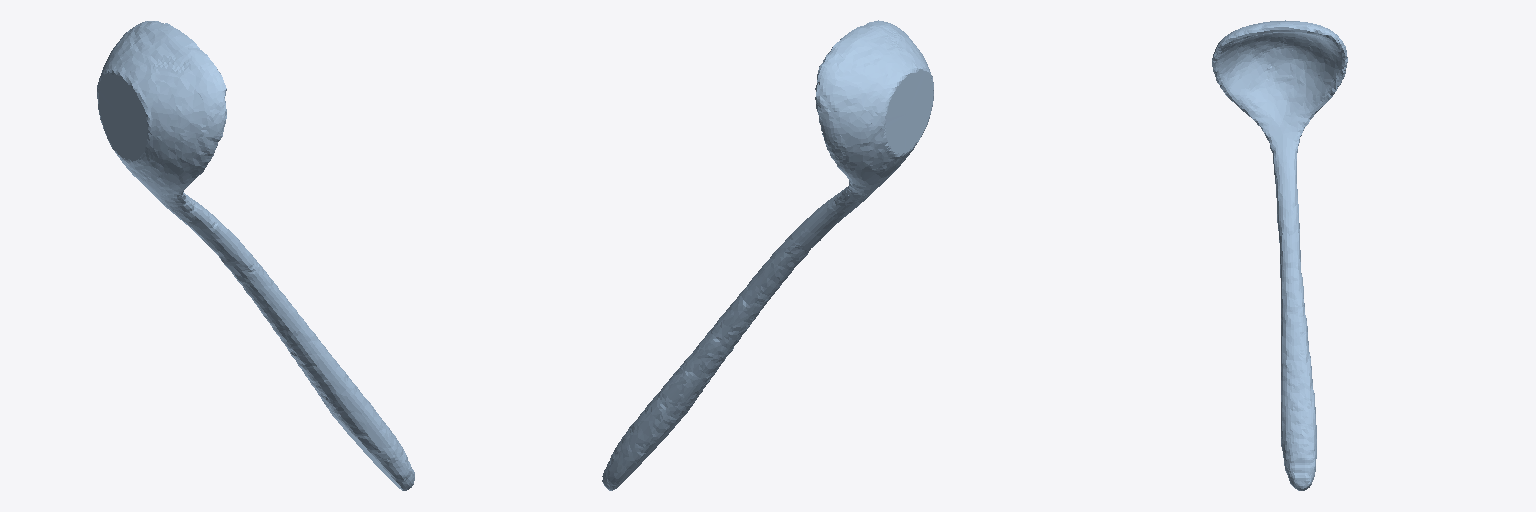
The robot description file, URDF, robot "Spoon.urdf":
<?xml version="1.0" ?>
<robot name="Spoon.urdf">
  <dynamics damping="0.5" friction="0.9"/>
  <link name="baseLink">
    <contact>
      <lateral_friction value="0.9"/>
      <rolling_friction value="0.5"/>
      <stiffness value="30000"/>
      <damping value="1000"/>
    </contact>
    <visual>
      <origin rpy="0 0 0" xyz="0 0 0"/>
      <geometry>
        <mesh filename="objects/Spoon/Spoon.obj" scale="1.0 1.0 1.0"/>
      </geometry>
      <material name="mat">
        <color rgba="0.7 0.8 0.9 1"/>
      </material>
    </visual>
    <collision>
      <origin rpy="0 0 0" xyz="0 0 0"/>
      <geometry>
        <mesh filename="objects/Spoon/Spoon.obj" scale="1.0 1.0 1.0"/>
      </geometry>
    </collision>
  </link>
</robot>

--- What the picture shows (computed from the rendered views, not written in the file) ---
The picture shows the robot from 3 angles, left to right: view 1: azimuth 30°, elevation 25°; view 2: azimuth 150°, elevation 25°; view 3: azimuth 270°, elevation 25°; orthographic projection.
Model Spoon.urdf with 1 links and 0 joints (none), rooted at baseLink, posed every joint at zero.
Links seen in each view (by area): view 1: baseLink; view 2: baseLink; view 3: baseLink.
Boxes of the visible links, box(x1,y1,x2,y2) form: baseLink: box(97, 21, 414, 490); baseLink: box(602, 20, 933, 490); baseLink: box(1212, 20, 1347, 490).
Size in the robot's own frame: 0.169 by 0.0897 by 0.2791 metres.
1 mesh visuals loaded from 1 distinct referenced files (1 OBJ).
